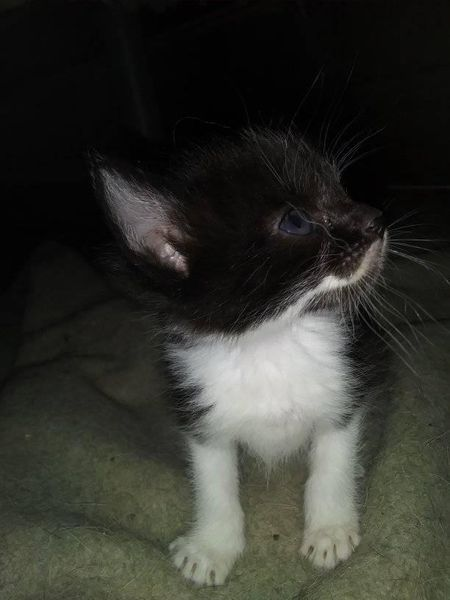cat: (55, 109, 398, 584)
